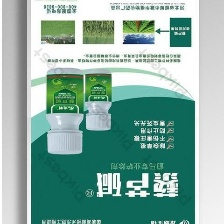insecticide: (44, 65, 85, 157), (82, 67, 113, 132)
